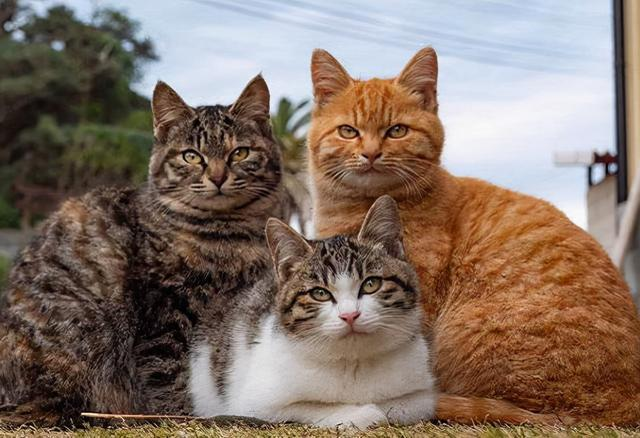cat: (302, 42, 638, 424), (1, 69, 300, 423), (189, 196, 438, 418)
